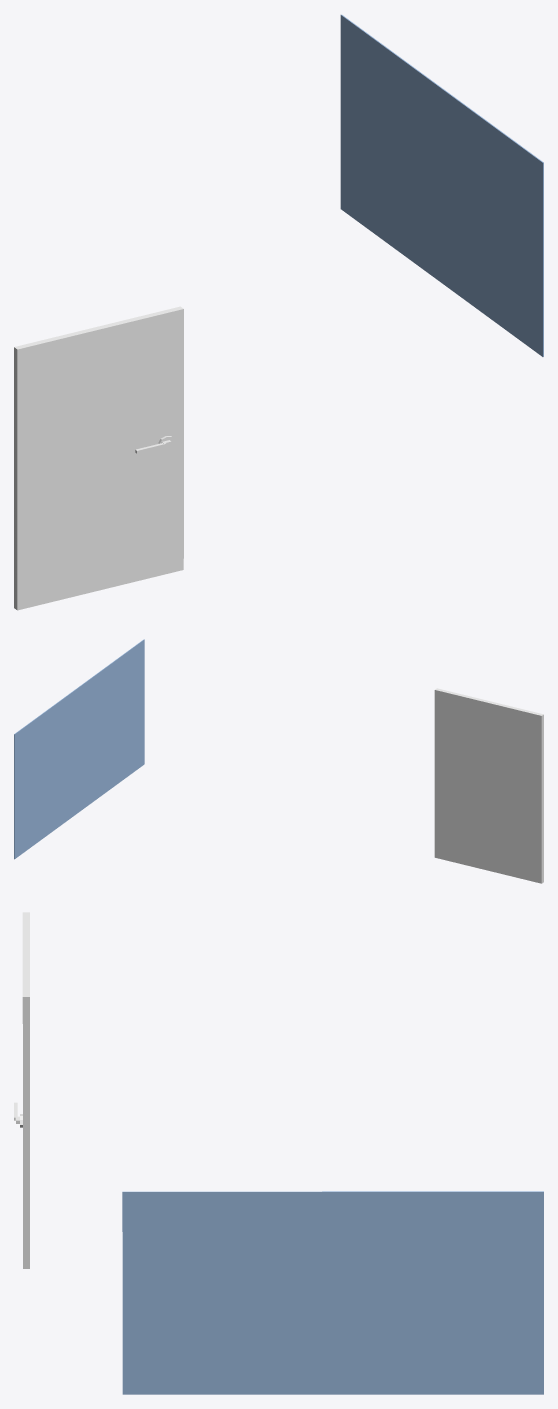
The model's file is DoorAndWindow.fbx.
3 views of the same model, one above another, from view 1: azimuth 30°, elevation 25°; view 2: azimuth 150°, elevation 25°; view 3: azimuth 270°, elevation 25° (orthographic). The views are drawn at different scales.
Parts seen in each view (by area): view 1: Tur, HM_WinS; view 2: Tur, HM_WinS; view 3: HM_WinS, Tur.
Part boxes in pixels (<box>): Tur: <box>14,306,183,610</box>; HM_WinS: <box>340,14,543,356</box>; Tur: <box>434,688,543,883</box>; HM_WinS: <box>14,639,144,859</box>; HM_WinS: <box>122,1191,543,1394</box>; Tur: <box>22,912,29,1268</box>.
Size of the model in its own units: 512 by 232 by 393.
